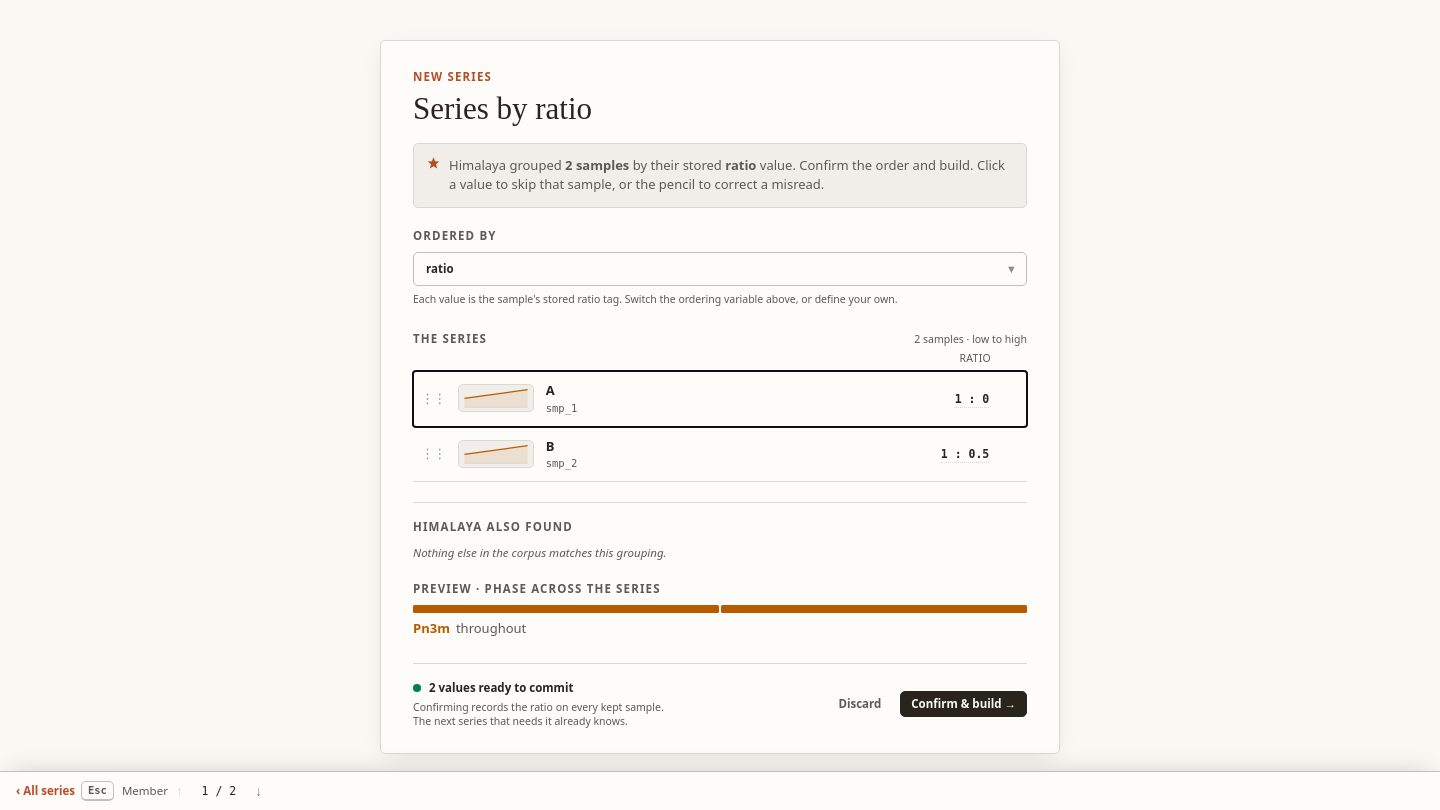
Test: SeriesScopingPage › omits the preview strip region entirely when every member is skipped
The image size is (1440, 810).
Click the button with test id "flag-button". click: (943, 398)
box: top-left (897, 386), bottom-right (989, 410)
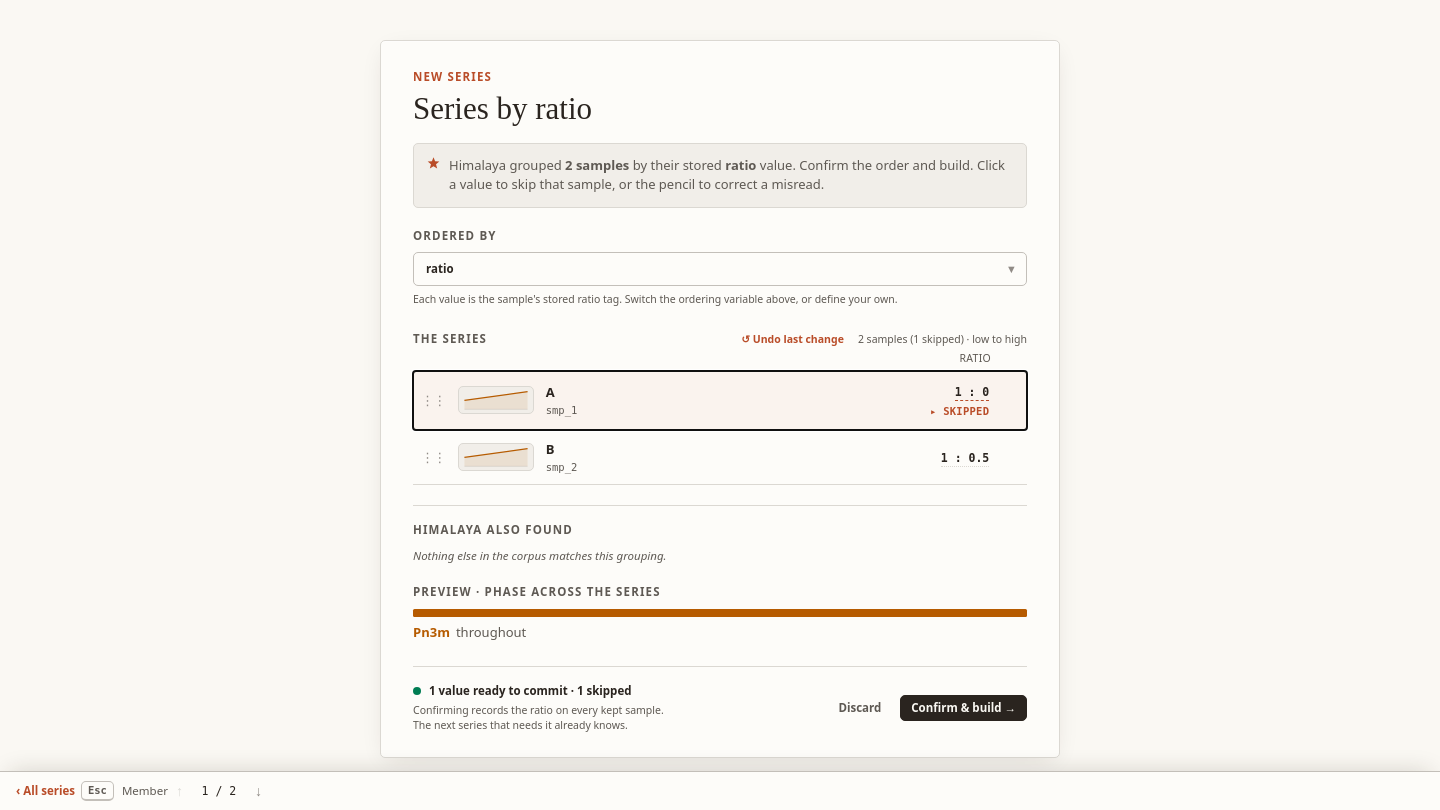
Click the button with test id "flag-button". click: (943, 457)
box: top-left (897, 445), bottom-right (989, 469)
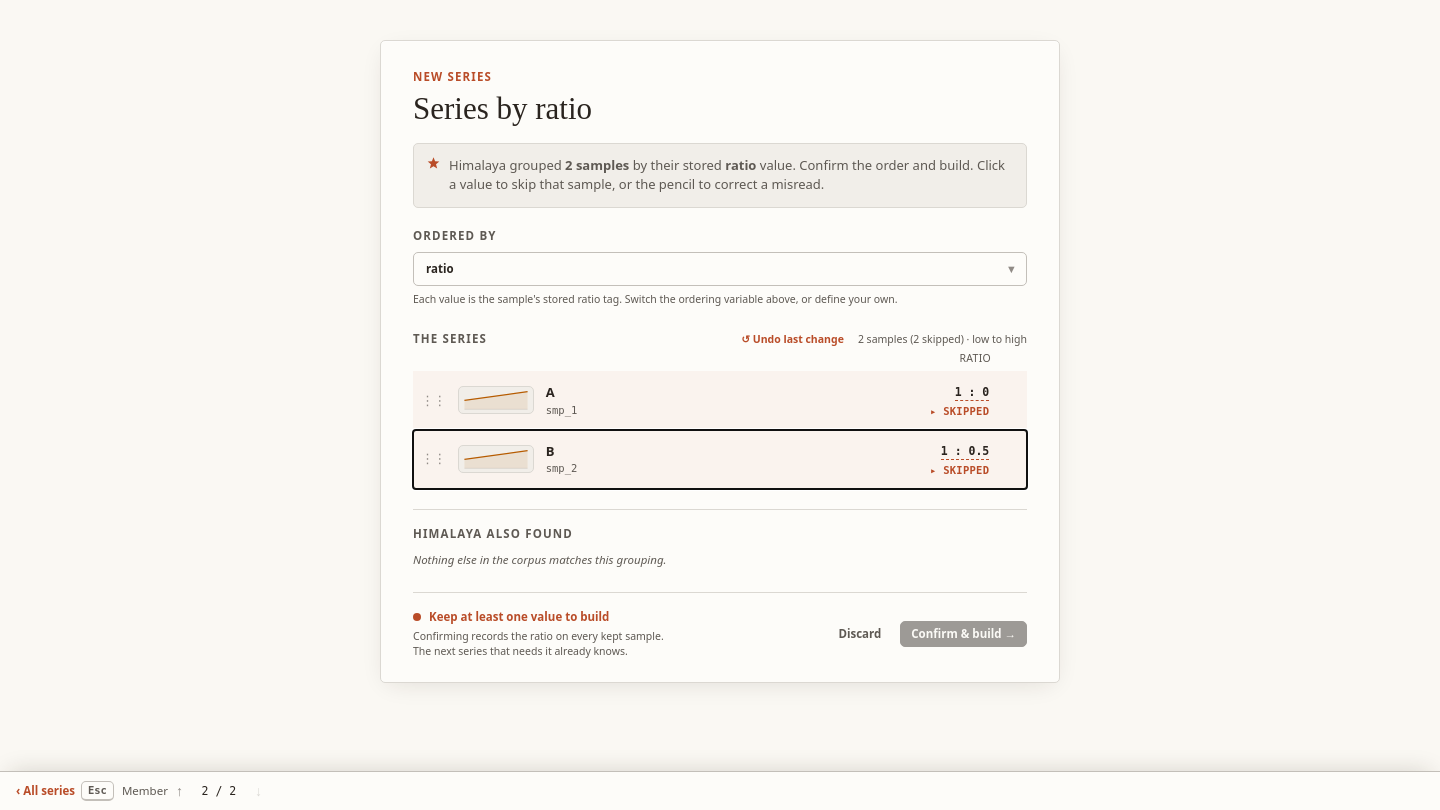
Expected: no pictures with test id "ps-seg" are shown
Expected: the heading "Preview · phase across the series" is gone
